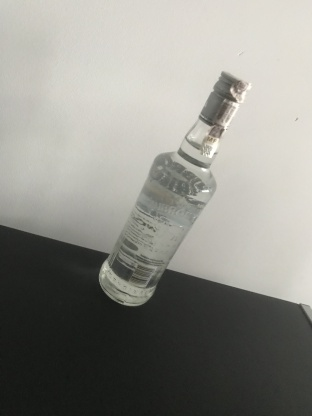nakretka: (197, 70, 252, 134)
